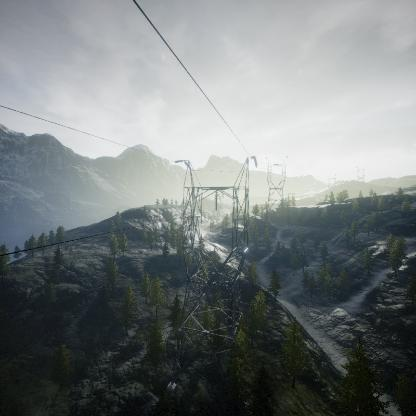tower: (171, 150, 260, 363), (264, 162, 288, 217)
